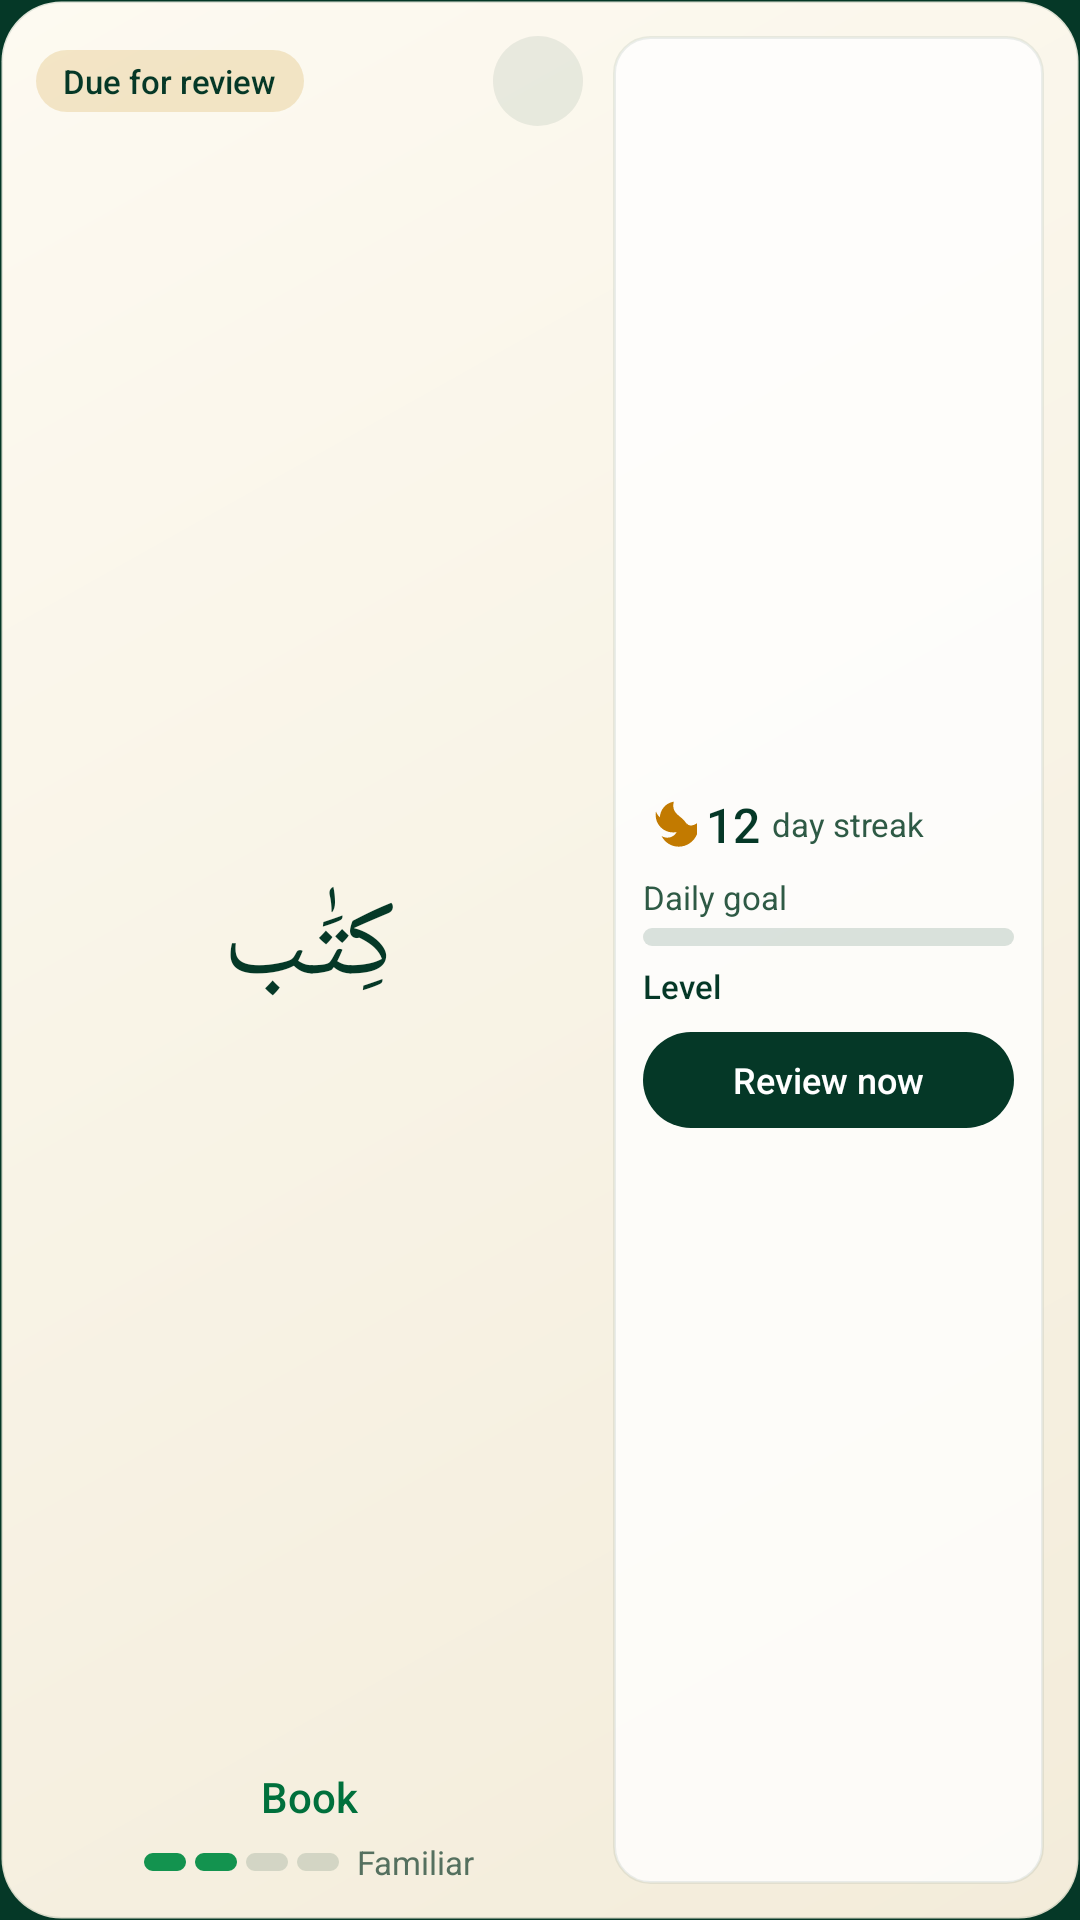

Screen size 1080×1920. Icon name, then its box in pixels as (x1, y1, x2, y2):
widget flame: (655, 801, 697, 847)
